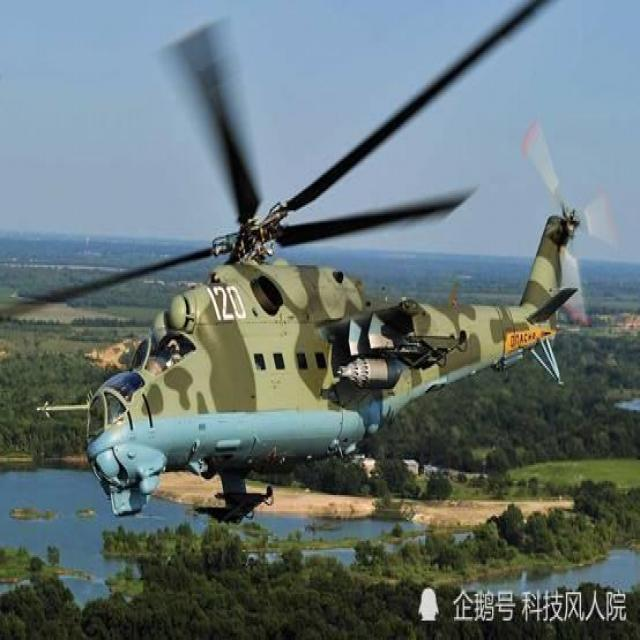MIL_HELO: (5, 0, 619, 536)
